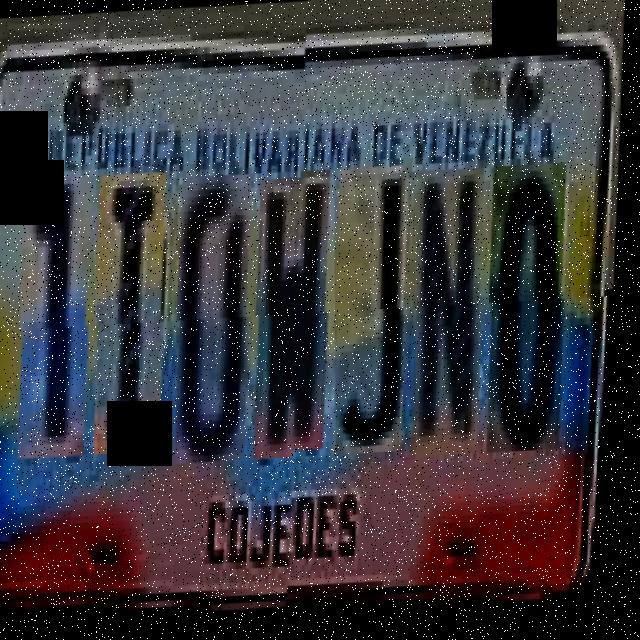0: (172, 174, 267, 463)
1: (15, 176, 106, 459)
I: (90, 172, 181, 454)
J: (328, 173, 425, 464)
N: (408, 175, 499, 466)
O: (483, 172, 582, 461)
W: (250, 177, 345, 460)
